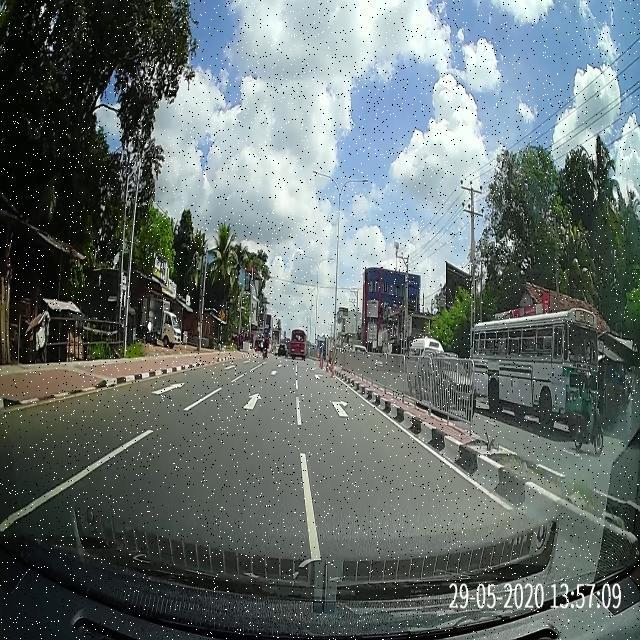forward: (176, 383, 304, 425)
